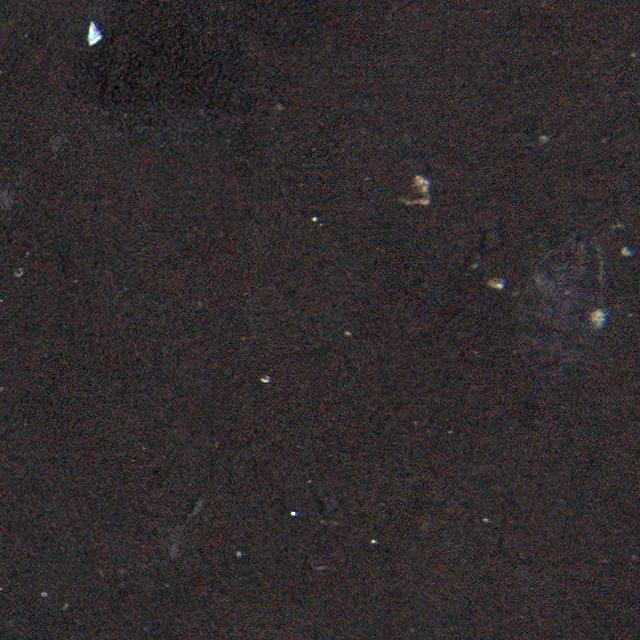flatfish: (516, 223, 612, 428)
